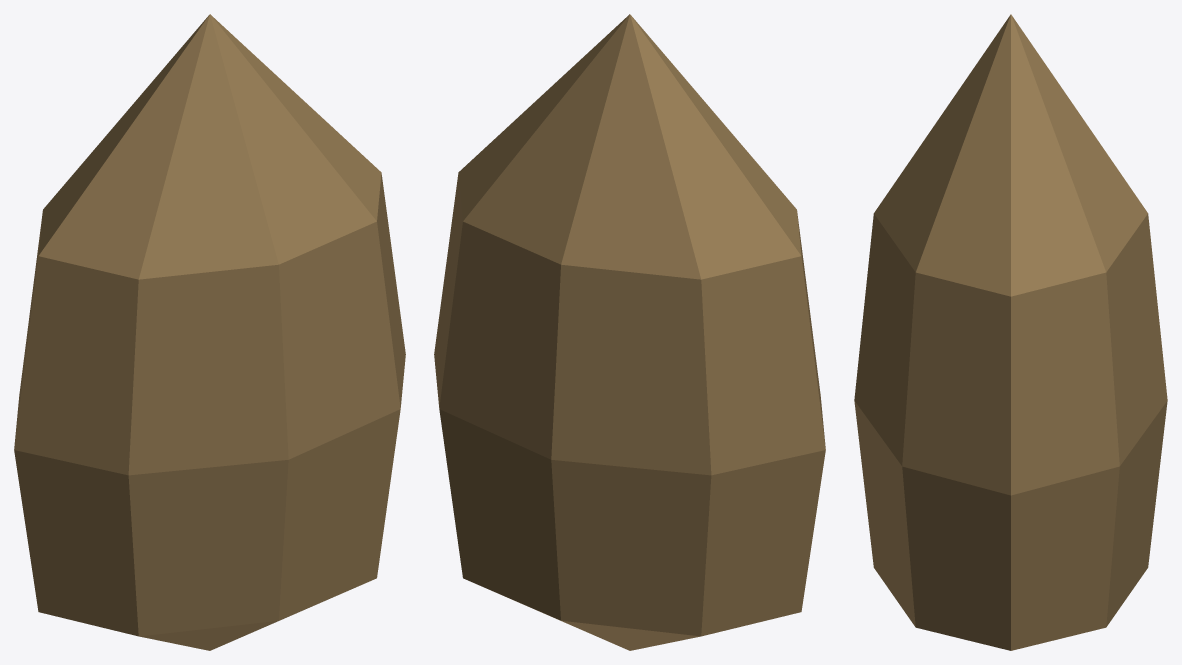
The model's file is seed.glb.
3 views of the same model, side by side, from view 1: azimuth 30°, elevation 25°; view 2: azimuth 150°, elevation 25°; view 3: azimuth 270°, elevation 25° (orthographic).
Visible parts, largest first — view 1: Seed; view 2: Seed; view 3: Seed.
Boxes of the visible parts, box(x1,y1,x2,y2) form: Seed: box(14, 14, 405, 650); Seed: box(434, 14, 825, 650); Seed: box(854, 14, 1167, 650).
Size of the model in its own units: 0.0668 by 0.1037 by 0.0464.
